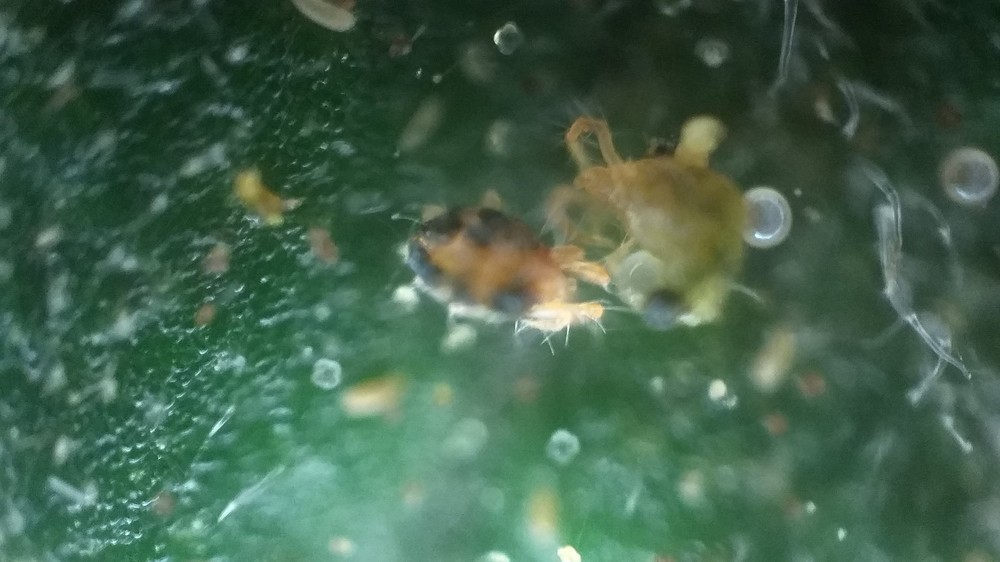Aracnido Rojo: (350, 189, 623, 368), (561, 97, 760, 337)
